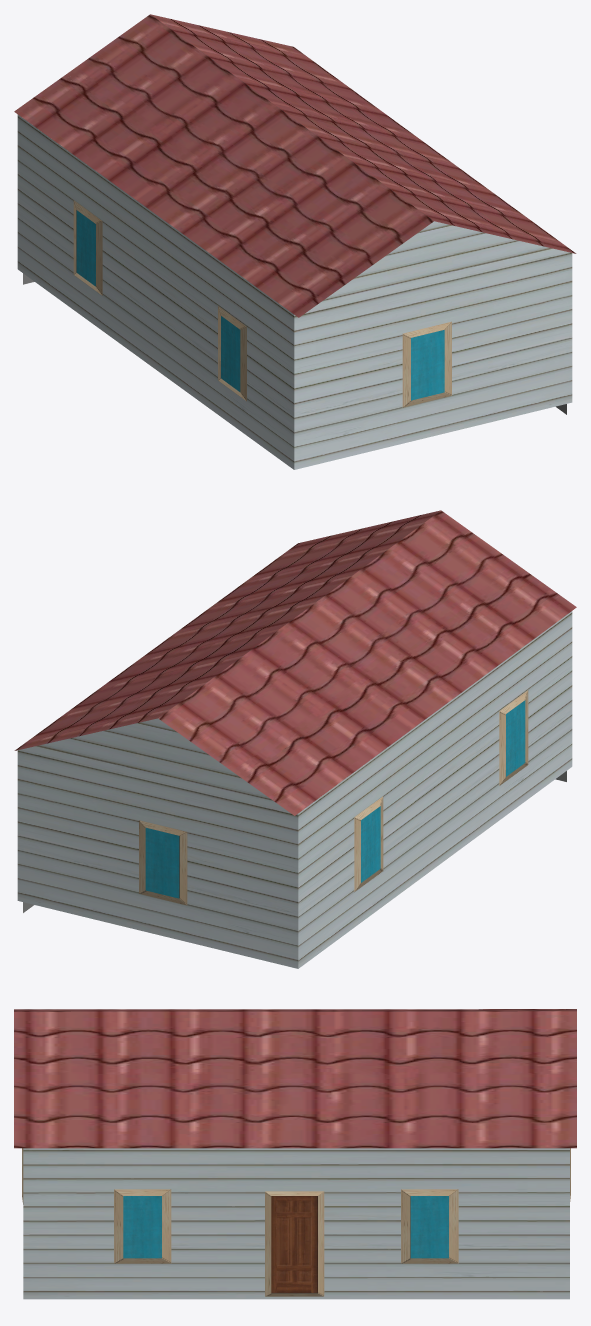
The model's file is Hus2v2.glb.
3 renders of one model, top to bottom at view 1: azimuth 30°, elevation 25°; view 2: azimuth 150°, elevation 25°; view 3: azimuth 270°, elevation 25°, orthographic.
Visible parts, largest first — view 1: Hus2; view 2: Hus2; view 3: Hus2.
Boxes of the visible parts, x1,y1,x2,y2 form: Hus2: (14,14,576,469); Hus2: (14,510,576,968); Hus2: (14,1009,576,1299).
Bounding box in the file's own units: 6.88 × 5.42 × 11.91.
Materials: 1 (1 with a texture image).
